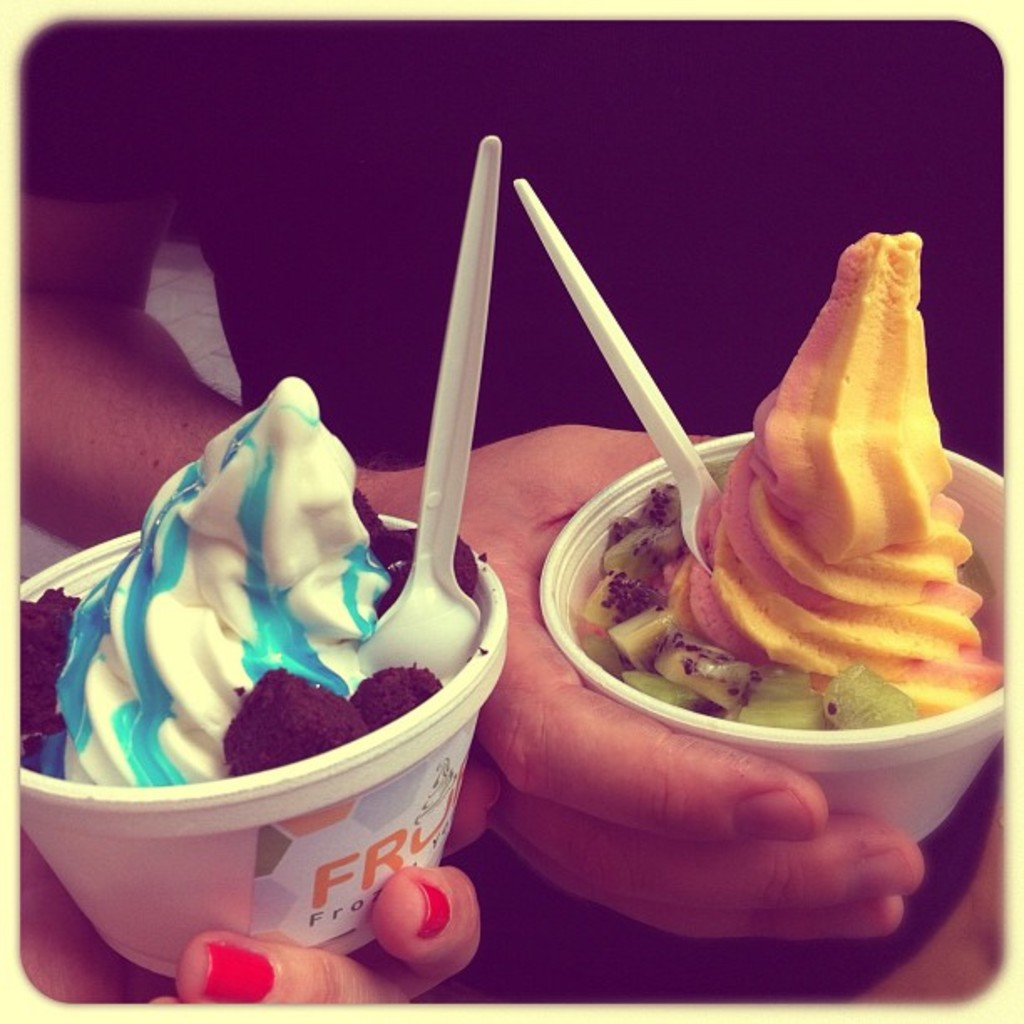Human_hand: (376, 422, 922, 937), (20, 577, 485, 1003)
